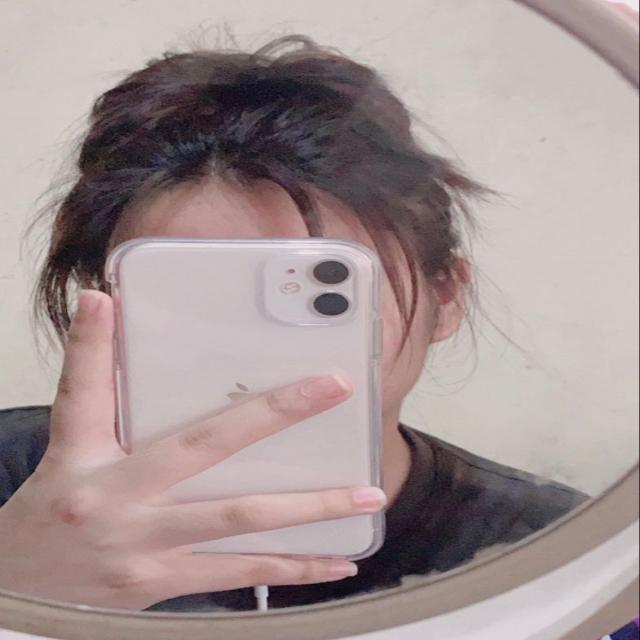phone: (109, 239, 382, 559)
